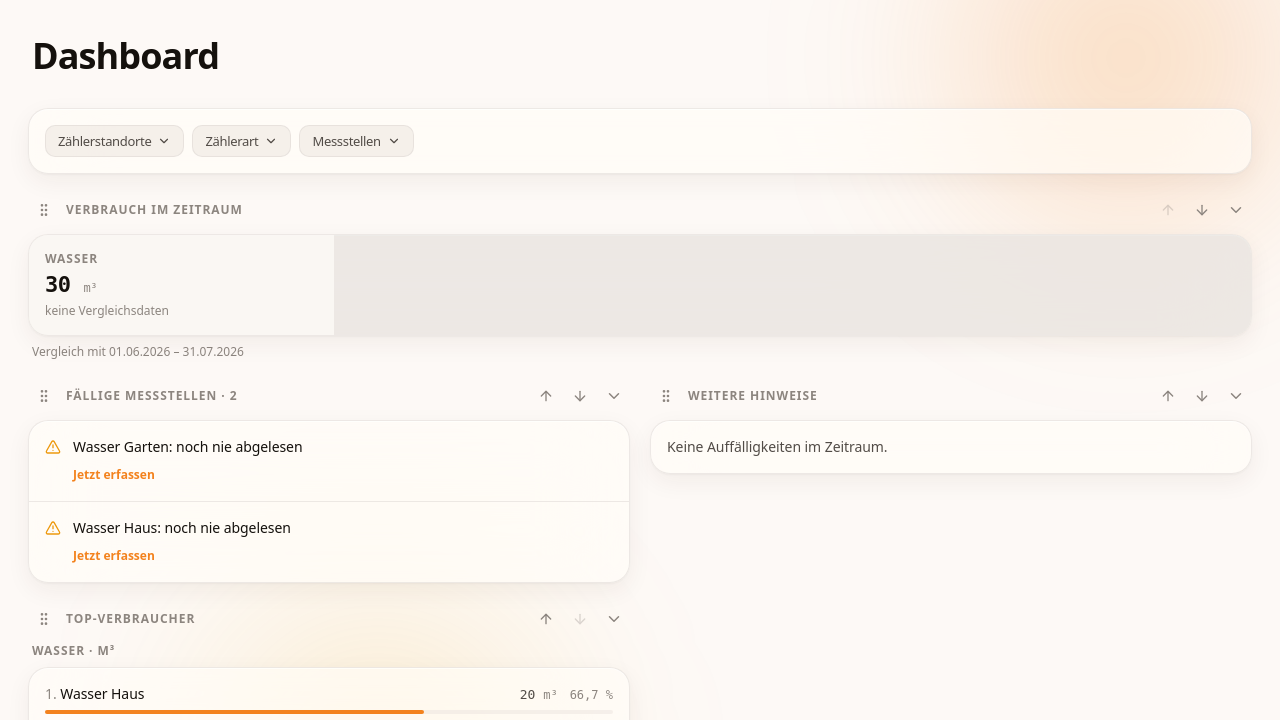
Test case: DashboardPage — Kachel-Layout › klappt eine Kachel zu und speichert den Zustand
Expected: the text "Wasser · m³" is shown, x1=32 y1=642 x2=115 y2=659
Click the button named "„Top-Verbraucher“ zuklappen": [614, 619] box x1=598 y1=603 x2=630 y2=635
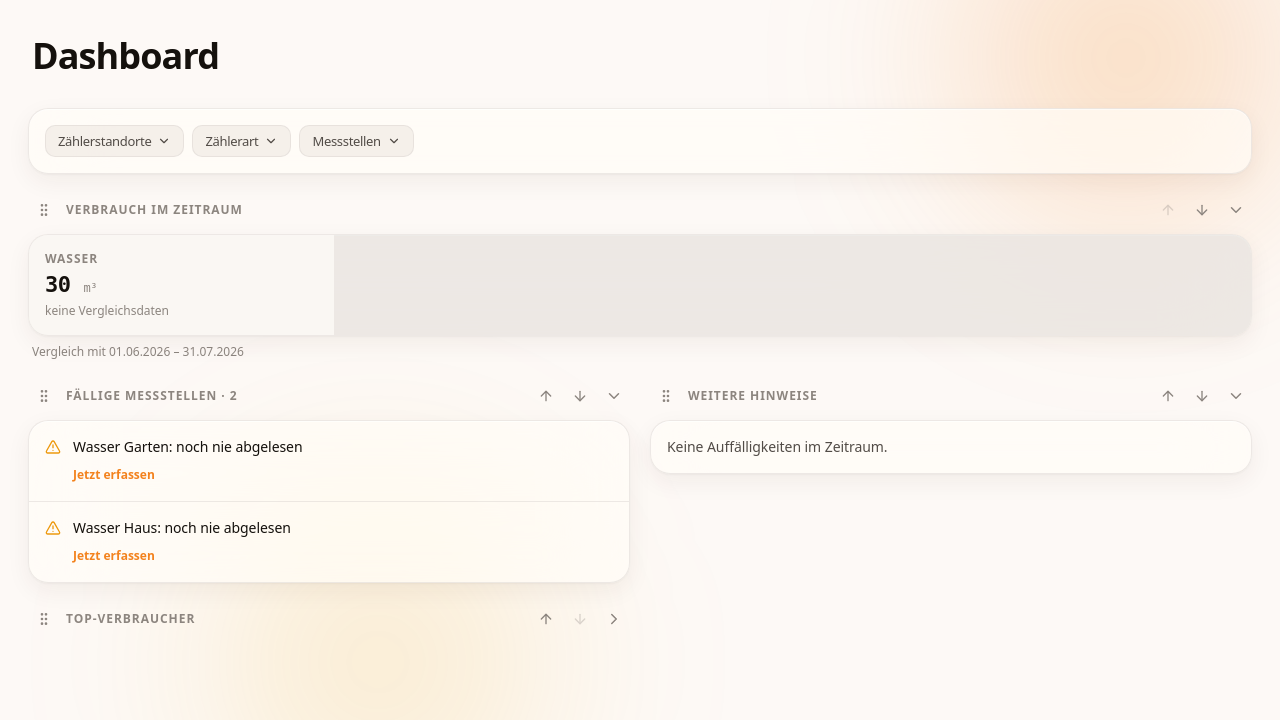
Expected: the text "Wasser · m³" is gone
Expected: the button named "„Top-Verbraucher“ aufklappen" is collapsed, x1=598 y1=603 x2=630 y2=635
